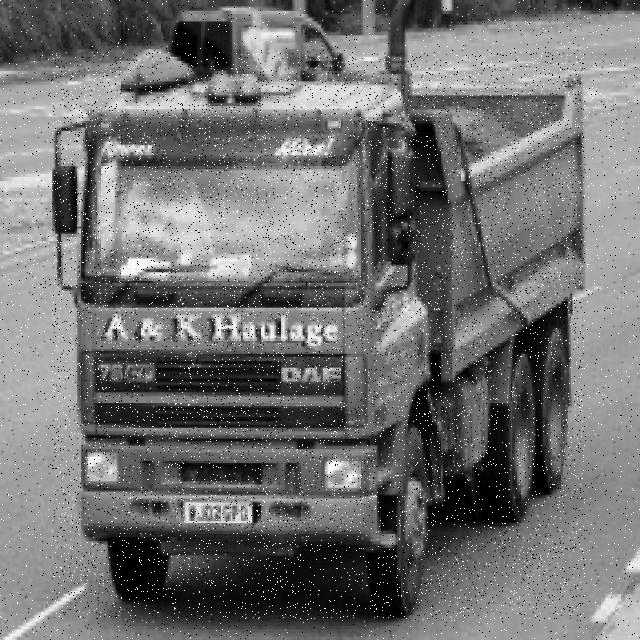Truck- Multi-Axle: (52, 52, 585, 619)
